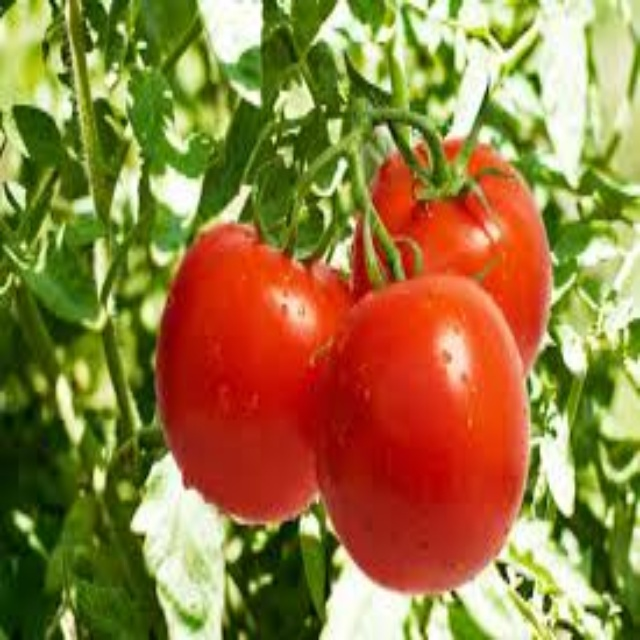tomato: (314, 283, 528, 594), (167, 231, 342, 525), (357, 138, 549, 363)
